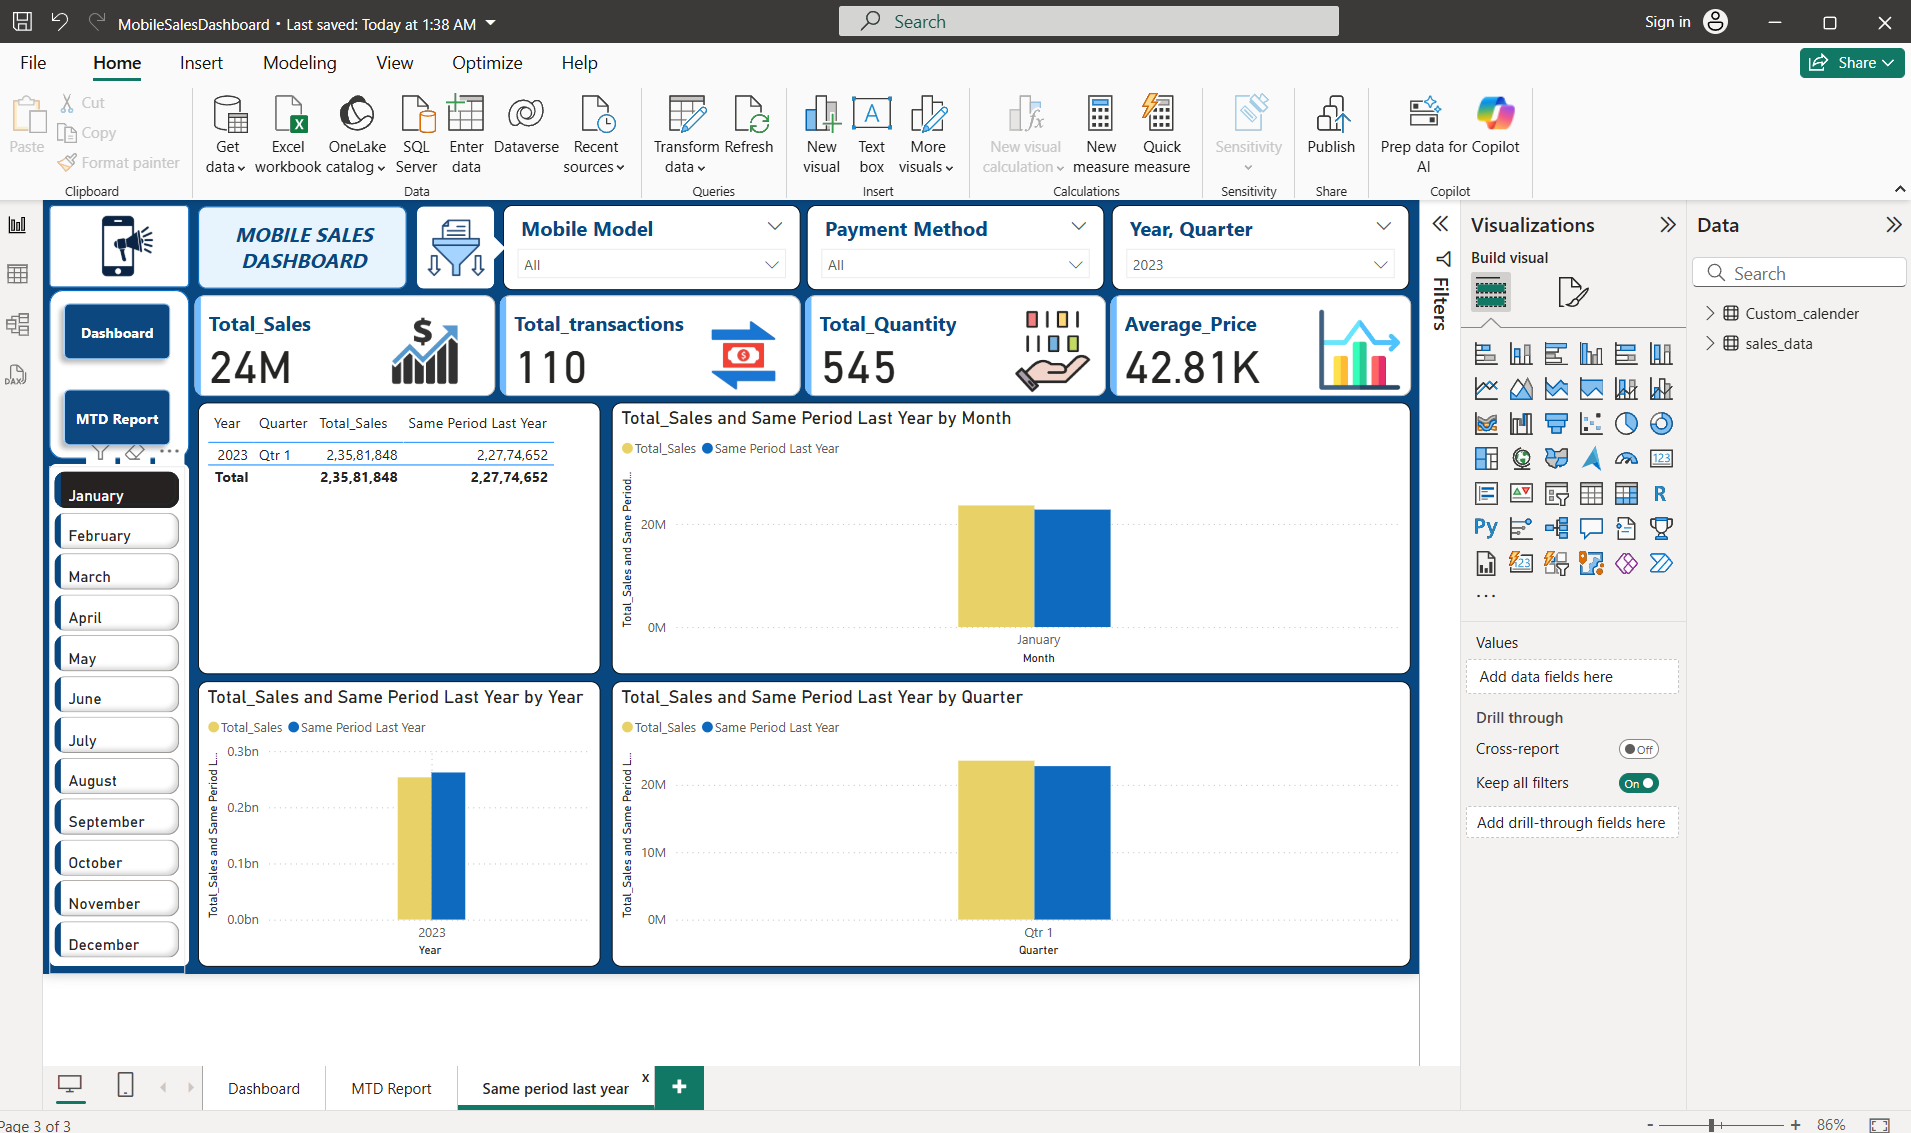

What the dashboard file says about the page in this screenshot:
{"tool":"powerbi","page":{"name":"Same period last year","canvas":[1280,720],"ordinal":2},"visuals":[{"type":"shape","box":[5.8,4.7,130.2,76.7],"z":0},{"type":"image","box":[20.9,7,115.1,72.1],"z":1000},{"type":"shape","box":[5.8,83.7,130.2,157],"z":2000},{"type":"cardVisual","fields":{"Data":["sales_data.Total_Sales","sales_data.Total_transactions","sales_data.Total_Quantity","sales_data.Average_Price"]},"box":[136,83.7,1144.2,104.7],"z":3000},{"type":"slicer","fields":{"Values":["sales_data.Mobile Model"]},"box":[427.9,4.7,276.7,79.1],"z":4000},{"type":"slicer","fields":{"Values":["sales_data.Payment Method"]},"box":[710.5,4.7,276.7,79.1],"z":5000},{"type":"slicer","fields":{"Values":["Custom_calender.Date.Variation.Date Hierarchy.Year","Custom_calender.Date.Variation.Date Hierarchy.Quarter"]},"box":[994.2,4.7,276.7,79.1],"z":6000},{"type":"shape","box":[347.7,5.8,72.1,76.7],"z":7000},{"type":"shape","box":[365.1,20.9,65.1,47.7],"z":8000},{"type":"image","box":[352.3,9.3,64,69.8],"z":9000},{"type":"shape","box":[144.2,5.8,194.2,76.7],"z":10000},{"type":"textbox","box":[151.2,14,182.6,69.8],"z":11000},{"type":"shape","box":[5.8,245.3,130.2,467.4],"z":12000},{"type":"advancedSlicerVisual","fields":{"Values":["Custom_calender.Date.Variation.Date Hierarchy.Month"]},"box":[5.8,247.7,126.7,472.1],"z":13000},{"type":"tableEx","fields":{"Values":["Custom_calender.Date.Variation.Date Hierarchy.Year","Custom_calender.Date.Variation.Date Hierarchy.Quarter","sales_data.Total_Sales","sales_data.Same Period Last Year"]},"box":[144.3,188.6,374.3,252.9],"z":14000},{"type":"clusteredColumnChart","fields":{"Category":["Custom_calender.Date.Variation.Date Hierarchy.Year","Custom_calender.Date.Variation.Date Hierarchy.Quarter"],"Y":["sales_data.Total_Sales","sales_data.Same Period Last Year"]},"box":[144.3,447.1,374.3,265.7],"z":15000},{"type":"clusteredColumnChart","fields":{"Category":["Custom_calender.Date.Variation.Date Hierarchy.Year","Custom_calender.Date.Variation.Date Hierarchy.Quarter"],"Y":["sales_data.Total_Sales","sales_data.Same Period Last Year"]},"box":[528.6,447.1,742.9,265.7],"z":16000},{"type":"clusteredColumnChart","fields":{"Y":["sales_data.Total_Sales","sales_data.Same Period Last Year"],"Category":["Custom_calender.Date.Variation.Date Hierarchy.Year","Custom_calender.Date.Variation.Date Hierarchy.Quarter","Custom_calender.Date.Variation.Date Hierarchy.Month","Custom_calender.Date.Variation.Date Hierarchy.Day"]},"box":[528.6,188.6,742.9,252.9],"z":17000},{"type":"pageNavigator","box":[10,87.1,117.1,151.4],"z":18000}]}

Visuals, with their boxes on the page's 1280x720 design canvas (x1, y1, x2, y2). These are canvas units, not pixel positions in the 1911x1133 screenshot, which may show the page scaled, cropped or inside an application window:
shape: select_region(6, 5, 136, 81)
image: select_region(21, 7, 136, 79)
shape: select_region(6, 84, 136, 241)
cardVisual - sales_data.Total_Sales x sales_data.Total_transactions: select_region(136, 84, 1280, 188)
slicer - sales_data.Mobile Model: select_region(428, 5, 705, 84)
slicer - sales_data.Payment Method: select_region(710, 5, 987, 84)
slicer - Custom_calender.Date.Variation.Date Hierarchy.Year x Custom_calender.Date.Variation.Date Hierarchy.Quarter: select_region(994, 5, 1271, 84)
shape: select_region(348, 6, 420, 82)
shape: select_region(365, 21, 430, 69)
image: select_region(352, 9, 416, 79)
shape: select_region(144, 6, 338, 82)
textbox: select_region(151, 14, 334, 84)
shape: select_region(6, 245, 136, 713)
advancedSlicerVisual - Custom_calender.Date.Variation.Date Hierarchy.Month: select_region(6, 248, 132, 720)
tableEx - Custom_calender.Date.Variation.Date Hierarchy.Year x Custom_calender.Date.Variation.Date Hierarchy.Quarter: select_region(144, 189, 519, 442)
clusteredColumnChart - Custom_calender.Date.Variation.Date Hierarchy.Year x Custom_calender.Date.Variation.Date Hierarchy.Quarter: select_region(144, 447, 519, 713)
clusteredColumnChart - Custom_calender.Date.Variation.Date Hierarchy.Year x Custom_calender.Date.Variation.Date Hierarchy.Quarter: select_region(529, 447, 1272, 713)
clusteredColumnChart - sales_data.Total_Sales x sales_data.Same Period Last Year: select_region(529, 189, 1272, 442)
pageNavigator: select_region(10, 87, 127, 238)
